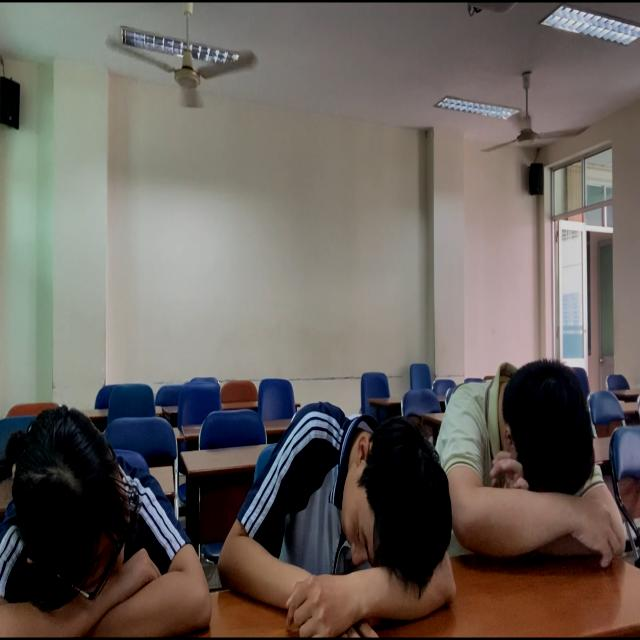sleep: (220, 406, 459, 631), (4, 402, 205, 633), (432, 365, 633, 582)
